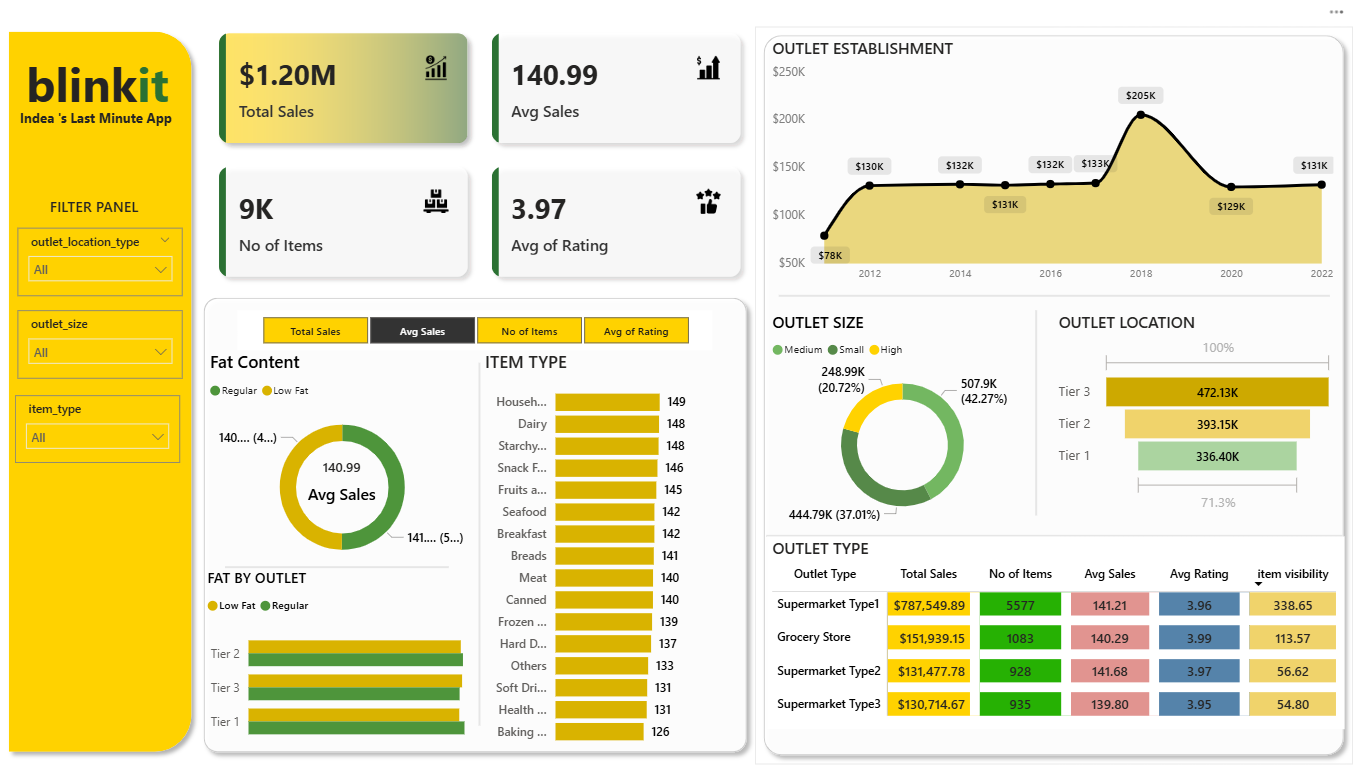

Layout of this report page (visuals, bound fields, positions):
{"tool":"powerbi","page":{"name":"Page 1","canvas":[1400,800],"ordinal":0},"visuals":[{"type":"shape","box":[0,24.1,203.8,750.6],"z":0},{"type":"textbox","box":[462.3,99.1,261.2,90.1],"z":1000},{"type":"textbox","box":[15,106.6,183.1,37.5],"z":3000},{"type":"cardVisual","fields":{"Data":["public blinkit_data.Total Sales","public blinkit_data.Avg Sales","public blinkit_data.No of Items","public blinkit_data.Avg of Rating"]},"box":[205.6,18,564.3,283.7],"z":4000},{"type":"shape","box":[198.1,295.7,570.3,480.3],"z":5000},{"type":"donutChart","title":" Fat Content","fields":{"Y":["public blinkit_data.Total Sales"],"Category":["public blinkit_data.item_fat_content"]},"box":[208.6,357.4,279.8,228.9],"z":6000},{"type":"slicer","fields":{"Values":["Matrix.Matrix"]},"box":[241.6,316.7,483.3,40.5],"z":7000},{"type":"cardVisual","fields":{"Data":["public blinkit_data.Total Sales"]},"box":[281.1,450.2,133.5,75],"z":8000},{"type":"shape","box":[228.9,557.1,227.7,42],"z":9000},{"type":"shape","box":[474.3,370.7,27,369.2],"z":10000},{"type":"barChart","title":"ITEM TYPE","fields":{"Y":["public blinkit_data.Total Sales"],"Category":["public blinkit_data.item_type"]},"box":[487.8,357.2,256.6,411.2],"z":11000},{"type":"shape","box":[768.2,28,607.9,750.4],"z":12000},{"type":"lineChart","title":"OUTLET ESTABLISHMENT","fields":{"Category":["public blinkit_data.outlet_establishment_year"],"Y":["public blinkit_data.Total Sales"]},"box":[781,38,581,258.2],"z":13000},{"type":"shape","box":[792.4,281,560.8,41.8],"z":14000},{"type":"donutChart","title":"OUTLET SIZE","fields":{"Category":["public blinkit_data.outlet_size"],"Y":["Sum(public blinkit_data.sales)"]},"box":[781,316.5,275,225],"z":15000},{"type":"shape","box":[1036.7,316.5,35.4,208.9],"z":16000},{"type":"funnel","title":"OUTLET LOCATION","fields":{"Y":["Sum(public blinkit_data.sales)"],"Category":["public blinkit_data.outlet_location_type"]},"box":[1072.2,316.5,289.9,210.1],"z":17000},{"type":"shape","box":[779.6,525.3,586.3,42],"z":18000},{"type":"pivotTable","title":"OUTLET TYPE","fields":{"Rows":["public blinkit_data.outlet_type"],"Values":["public blinkit_data.Total Sales","public blinkit_data.No of Items","public blinkit_data.Avg Sales","public blinkit_data.Avg of Rating","Sum(public blinkit_data.item_visibility)"]},"box":[780.9,546.9,587.6,195.9],"z":19000},{"type":"slicer","fields":{"Values":["public blinkit_data.outlet_location_type"]},"box":[17.7,232.9,168.4,69.6],"z":20000},{"type":"slicer","fields":{"Values":["public blinkit_data.outlet_size"]},"box":[17.7,316.5,168.4,69.6],"z":21000},{"type":"slicer","fields":{"Values":["public blinkit_data.item_type"]},"box":[15.3,403.2,167.9,68.7],"z":22000},{"type":"clusteredBarChart","title":"FAT BY OUTLET","fields":{"Y":["public blinkit_data.Total Sales"],"Series":["public blinkit_data.item_fat_content"],"Category":["public blinkit_data.outlet_location_type"]},"box":[206,586.3,282.3,189.5],"z":23000},{"type":"image","box":[79.3,506,40,40],"z":24000},{"type":"image","box":[79.3,562.7,40,40.7],"z":25000},{"type":"image","box":[79.3,613.3,40,44.7],"z":26000},{"type":"textbox","box":[57.3,194.5,123.6,38.2],"z":27000},{"type":"image","box":[17.3,189.1,40,40],"z":28000},{"type":"textbox","box":[27.3,680.9,142.7,69.1],"z":29000},{"type":"textbox","box":[7.9,34.4,190.5,79.4],"z":29003}]}

Visuals, with their boxes in screenshot pixels (x1, y1, x2, y2), scaled from the page's 1400x800 canvas onto the 1362x770 screenshot:
shape: box(0, 23, 198, 746)
textbox: box(450, 95, 704, 182)
textbox: box(15, 103, 193, 139)
cardVisual - public blinkit_data.Total Sales x public blinkit_data.Avg Sales: box(200, 17, 749, 290)
shape: box(193, 285, 748, 747)
" Fat Content" donutChart: box(203, 344, 475, 564)
slicer - Matrix.Matrix: box(235, 305, 705, 344)
cardVisual - public blinkit_data.Total Sales: box(273, 433, 403, 506)
shape: box(223, 536, 444, 577)
shape: box(461, 357, 488, 712)
"ITEM TYPE" barChart: box(475, 344, 724, 740)
shape: box(747, 27, 1339, 749)
"OUTLET ESTABLISHMENT" lineChart: box(760, 37, 1325, 285)
shape: box(771, 270, 1316, 311)
"OUTLET SIZE" donutChart: box(760, 305, 1027, 521)
shape: box(1009, 305, 1043, 506)
"OUTLET LOCATION" funnel: box(1043, 305, 1325, 507)
shape: box(758, 506, 1329, 546)
"OUTLET TYPE" pivotTable: box(760, 526, 1331, 715)
slicer - public blinkit_data.outlet_location_type: box(17, 224, 181, 291)
slicer - public blinkit_data.outlet_size: box(17, 305, 181, 372)
slicer - public blinkit_data.item_type: box(15, 388, 178, 454)
"FAT BY OUTLET" clusteredBarChart: box(200, 564, 475, 747)
image: box(77, 487, 116, 526)
image: box(77, 542, 116, 581)
image: box(77, 590, 116, 633)
textbox: box(56, 187, 176, 224)
image: box(17, 182, 56, 221)
textbox: box(27, 655, 165, 722)
textbox: box(8, 33, 193, 110)
